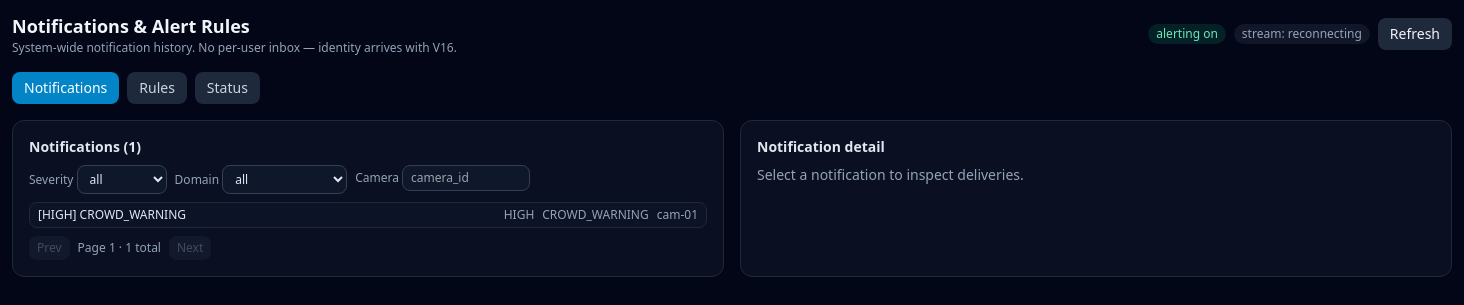
Test: NotificationsPage › surfaces retry errors without losing the detail view
Step 1. Click the text "[HIGH] CROWD_WARNING" → coordinates (112, 215), box [38,207,186,223]
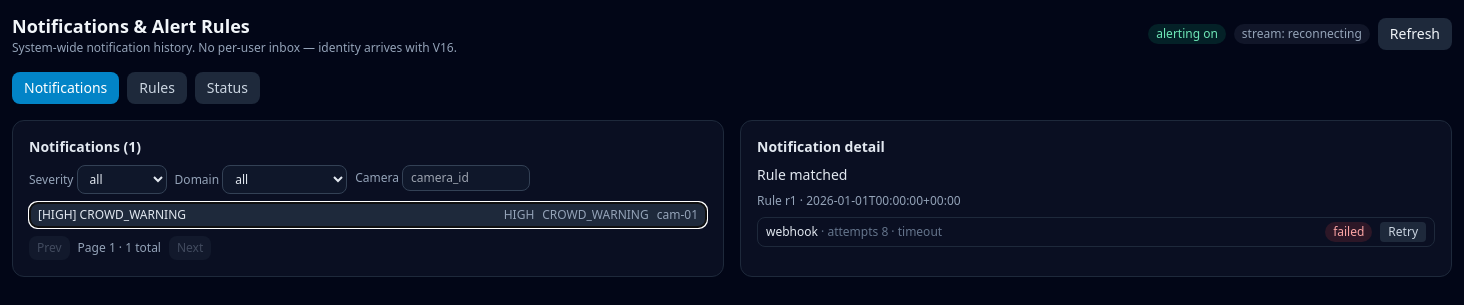
Step 2. Click the button with aria-label "Retry webhook delivery" → coordinates (1403, 232), box [1380,222,1426,242]
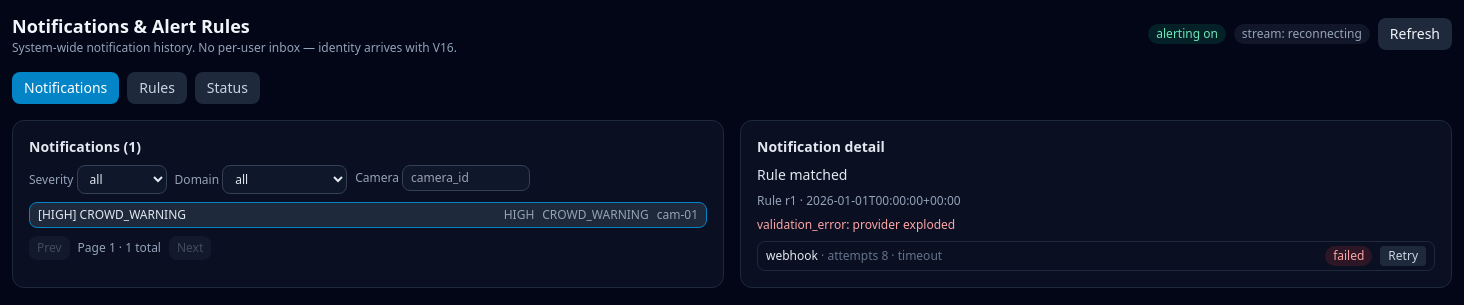
Check: the text "Rule matched" is shown, box [757,165,847,184]
Check: the text "validation_error: provider exploded" is shown, box [757,216,955,233]
